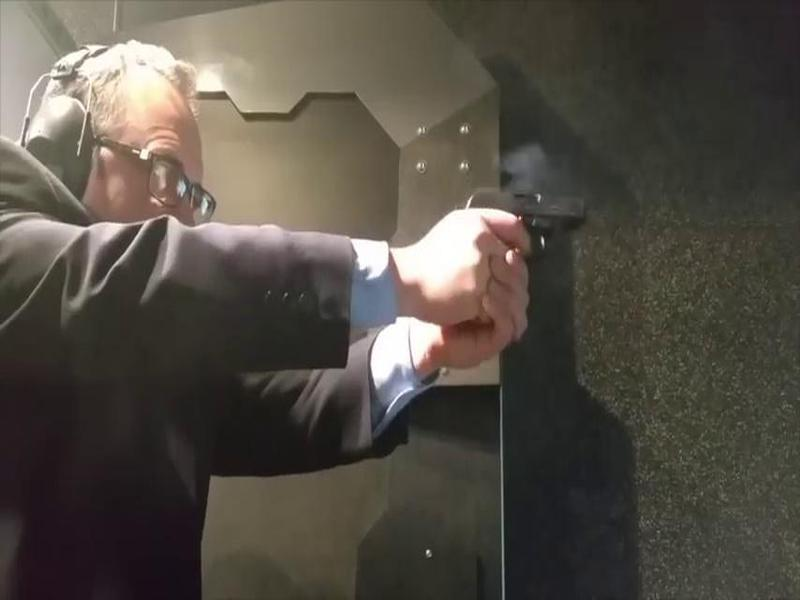Pistola: (433, 174, 599, 332)
